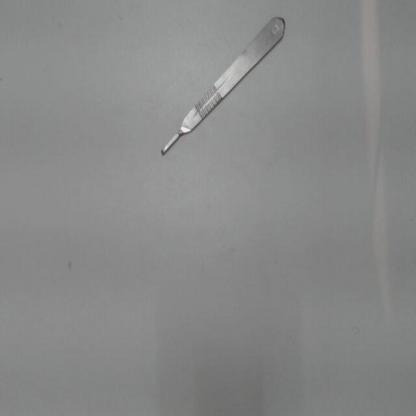No.3 BP Handle: (154, 11, 300, 166)
